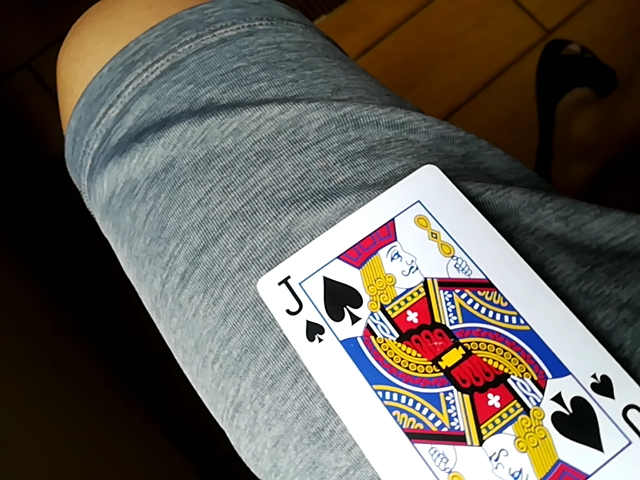ht j: (256, 165, 637, 479)
